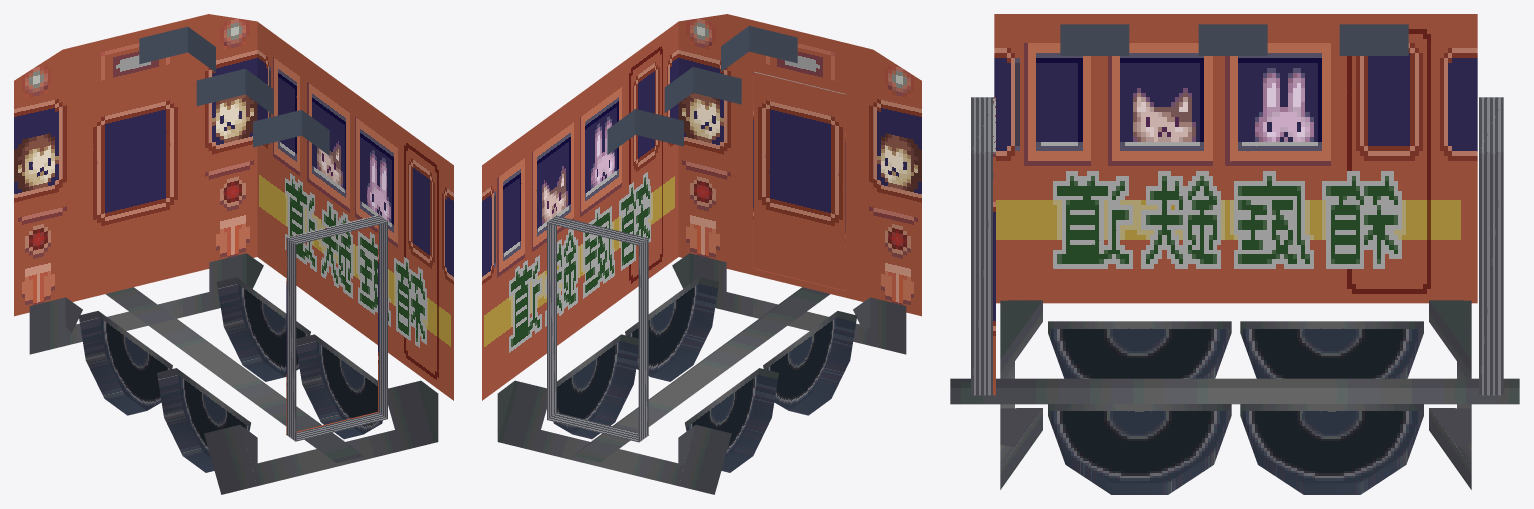
The model's file is ps2_save-icons_hakoniwatetsudou.glb.
3 renders of one model, left to right at view 1: azimuth 30°, elevation 25°; view 2: azimuth 150°, elevation 25°; view 3: azimuth 270°, elevation 25°, orthographic. The views are drawn at different scales.
Parts seen in each view (by area): view 1: icon1.ico; view 2: icon1.ico; view 3: icon1.ico.
Boxes of the visible parts, x1,y1,x2,y2 form: icon1.ico: [14, 14, 453, 494]; icon1.ico: [482, 14, 921, 494]; icon1.ico: [950, 14, 1519, 494].
Size of the model in its own units: 2.44 by 3.19 by 4.03.
Materials: 1 (1 with a texture image).
